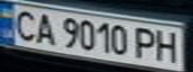0: (109, 22, 133, 56), (75, 18, 96, 52)
1: (93, 20, 112, 54)
9: (57, 16, 81, 50)
A: (30, 11, 57, 45)
C: (6, 7, 42, 42)
H: (151, 27, 184, 64)
P: (130, 25, 160, 61)
